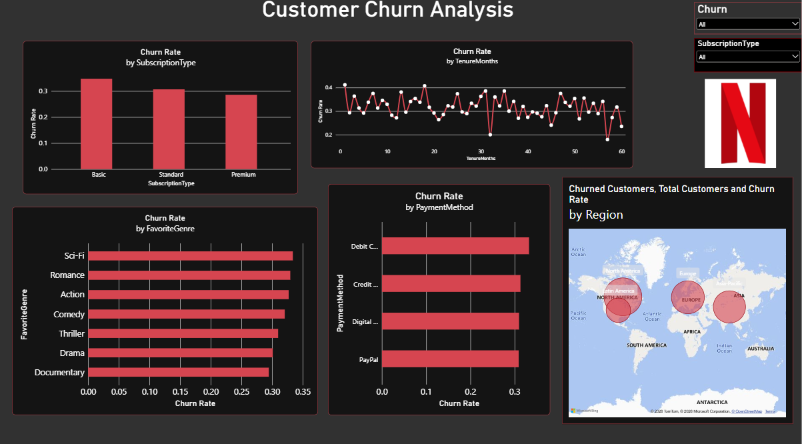

Layout of this report page (visuals, bound fields, positions):
{"tool":"powerbi","page":{"name":"Customer Churn Analysis ","canvas":[1920,1080],"ordinal":1},"visuals":[{"type":"textbox","box":[10,0,280,280],"z":0},{"type":"textbox","box":[9.5,291.1,1505.5,119.3],"z":1},{"type":"textbox","title":"Customer Churn Analysis ","box":[59.6,0,1741.7,112.1],"z":2},{"type":"slicer","fields":{"Values":["Raw_Data.Churn"]},"box":[1660.6,14.3,260.1,76.3],"z":3},{"type":"slicer","fields":{"Values":["Raw_Data.SubscriptionType"]},"box":[1660.6,100.2,260.1,81.1],"z":4},{"type":"clusteredColumnChart","fields":{"Category":["Raw_Data.SubscriptionType"],"Y":["Raw_Data.Churn Rate"]},"box":[59.6,107.4,656.1,365],"z":5},{"type":"lineChart","fields":{"Category":["Raw_Data.TenureMonths"],"Y":["Raw_Data.Churn Rate"]},"box":[746.8,107.4,768.3,303],"z":6},{"type":"clusteredBarChart","fields":{"Category":["Raw_Data.FavoriteGenre"],"Y":["Raw_Data.Churn Rate"]},"box":[33.4,503.4,730.1,496.3],"z":7},{"type":"clusteredBarChart","fields":{"Category":["Raw_Data.PaymentMethod"],"Y":["Raw_Data.Churn Rate"]},"box":[787.4,448.6,529.7,551.1],"z":8},{"type":"map","fields":{"Category":["Raw_Data.Region"],"Size":["Raw_Data.Churned Customers"]},"box":[1345.7,431.9,551.1,589.3],"z":9},{"type":"image","box":[1622.4,198,298.2,212.3],"z":10}]}

Visuals, with their boxes in screenshot pixels (x1, y1, x2, y2), scaled from the page's 1920x1080 canvas onto the 802x444 screenshot:
textbox: bbox=(4, 0, 121, 115)
textbox: bbox=(4, 120, 633, 169)
"Customer Churn Analysis " textbox: bbox=(25, 0, 752, 46)
slicer - Raw_Data.Churn: bbox=(694, 6, 801, 37)
slicer - Raw_Data.SubscriptionType: bbox=(694, 41, 801, 75)
clusteredColumnChart - Raw_Data.SubscriptionType x Raw_Data.Churn Rate: bbox=(25, 44, 299, 194)
lineChart - Raw_Data.TenureMonths x Raw_Data.Churn Rate: bbox=(312, 44, 633, 169)
clusteredBarChart - Raw_Data.FavoriteGenre x Raw_Data.Churn Rate: bbox=(14, 207, 319, 411)
clusteredBarChart - Raw_Data.PaymentMethod x Raw_Data.Churn Rate: bbox=(329, 184, 550, 411)
map - Raw_Data.Region x Raw_Data.Churned Customers: bbox=(562, 178, 792, 420)
image: bbox=(678, 81, 801, 169)
